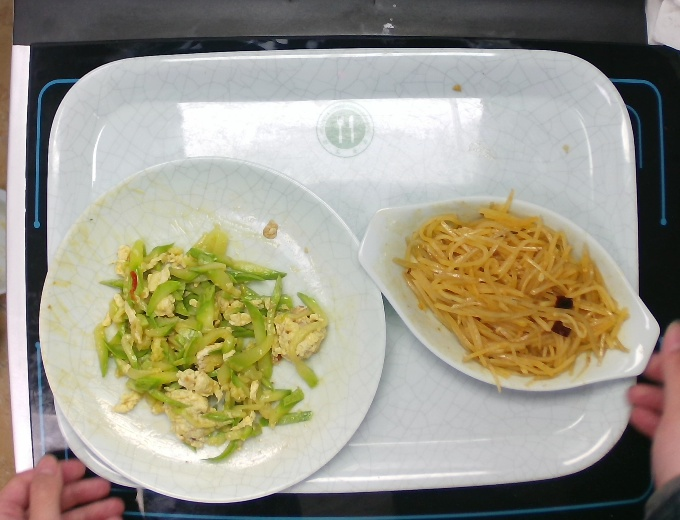JYsf-Da_Yuan_Pan: (35, 133, 394, 505)
JYsf-Yu_Pan: (360, 192, 661, 392)
